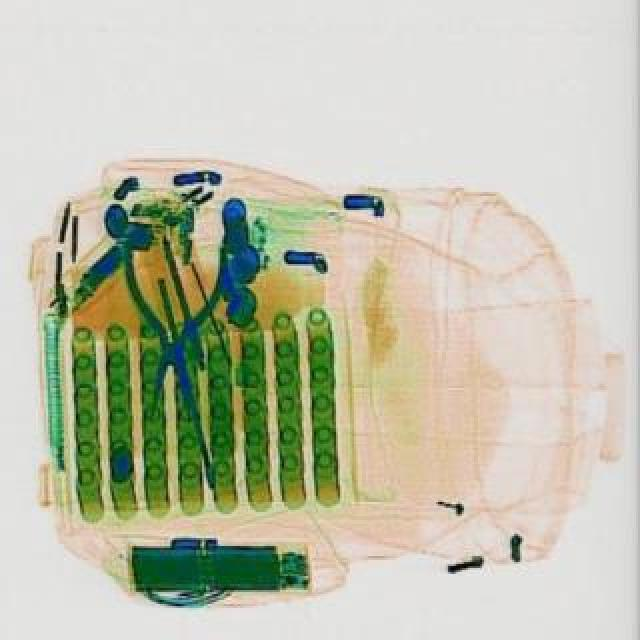wrench: (122, 242, 230, 430)
